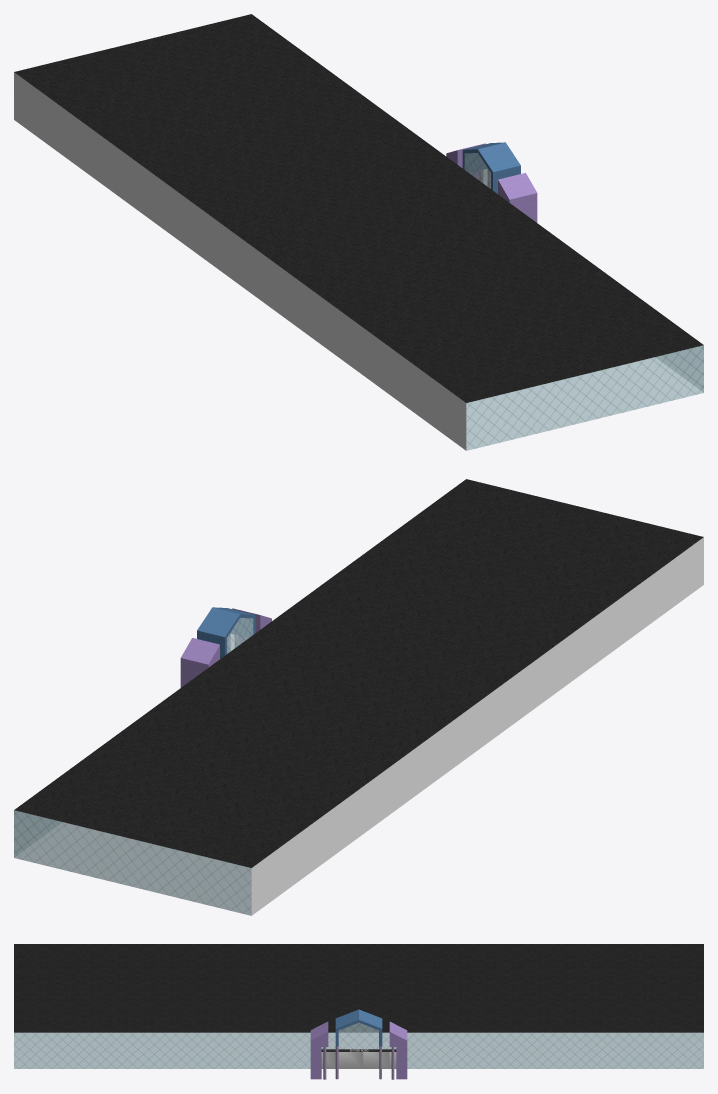
Rendered from PorteEntree.dae.
3 views of the same model, one above another, from view 1: azimuth 30°, elevation 25°; view 2: azimuth 150°, elevation 25°; view 3: azimuth 270°, elevation 25° (orthographic). The views are drawn at different scales.
Parts seen in each view (by area): view 1: SketchUp (×3), group_1, group_0; view 2: SketchUp (×3), group_1, group_0; view 3: SketchUp (×3), group_0 (×2), group_1.
Part boxes in pixels (left/top/right/bottom): SketchUp (×3): left=14, top=14, right=703, bottom=450; group_1: left=462, top=142, right=520, bottom=193; group_0: left=498, top=173, right=537, bottom=222; SketchUp (×3): left=14, top=479, right=703, bottom=915; group_1: left=197, top=607, right=255, bottom=658; group_0: left=180, top=638, right=219, bottom=687; SketchUp (×3): left=14, top=944, right=703, bottom=1068; group_0 (×2): left=310, top=1021, right=407, bottom=1079; group_1: left=335, top=1009, right=382, bottom=1046.
Bounding box in the file's own units: 1066 × 3146 × 303.
